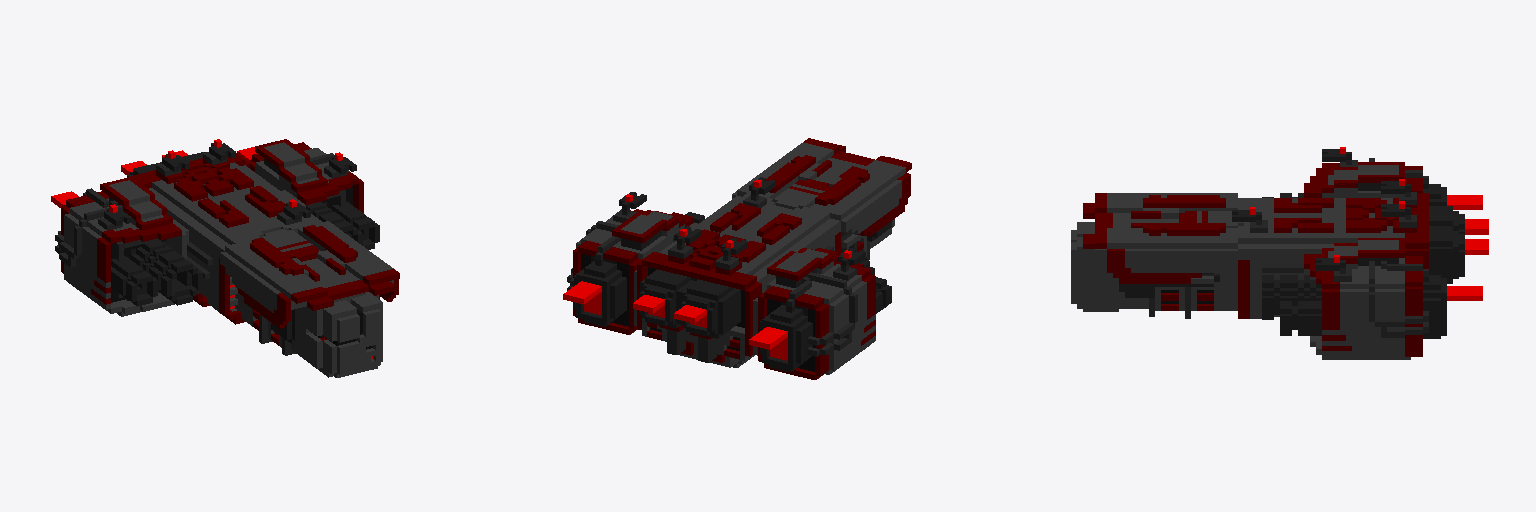
3 views of the same model, side by side, from view 1: azimuth 30°, elevation 25°; view 2: azimuth 150°, elevation 25°; view 3: azimuth 270°, elevation 25° (orthographic).
Visible parts, largest first — view 1: object 1; view 2: object 1; view 3: object 1.
Boxes of the visible parts, x1,y1,x2,y2 form: object 1: [51, 139, 399, 377]; object 1: [563, 138, 911, 379]; object 1: [1071, 147, 1488, 359].
Bounding box in the file's own units: 5.2 × 2.4 × 7.
1 materials, 1 textured.